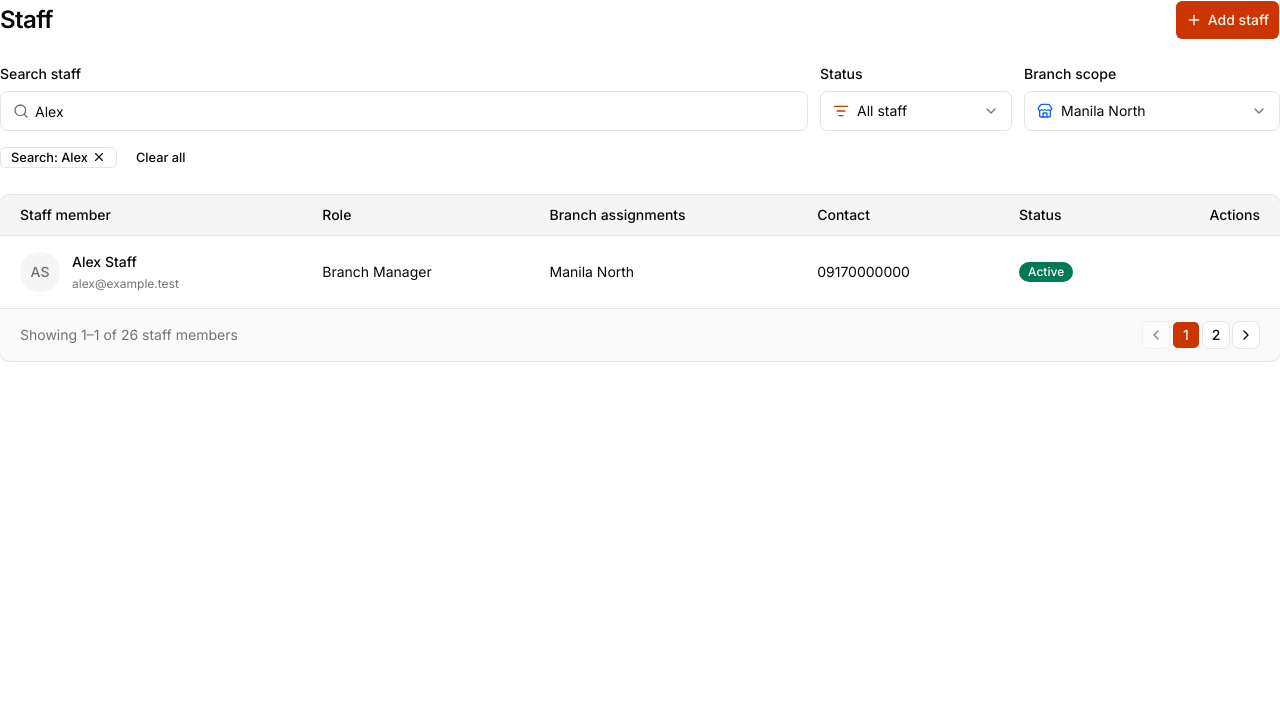
Test case: staff directory › opens staff creation in a centered modal
The width and height of the screenshot is (1280, 720).
Expected: the field labelled "Email" is not shown
Step 1. Click the button "Add staff" → (1227, 20), box [1175, 0, 1279, 40]
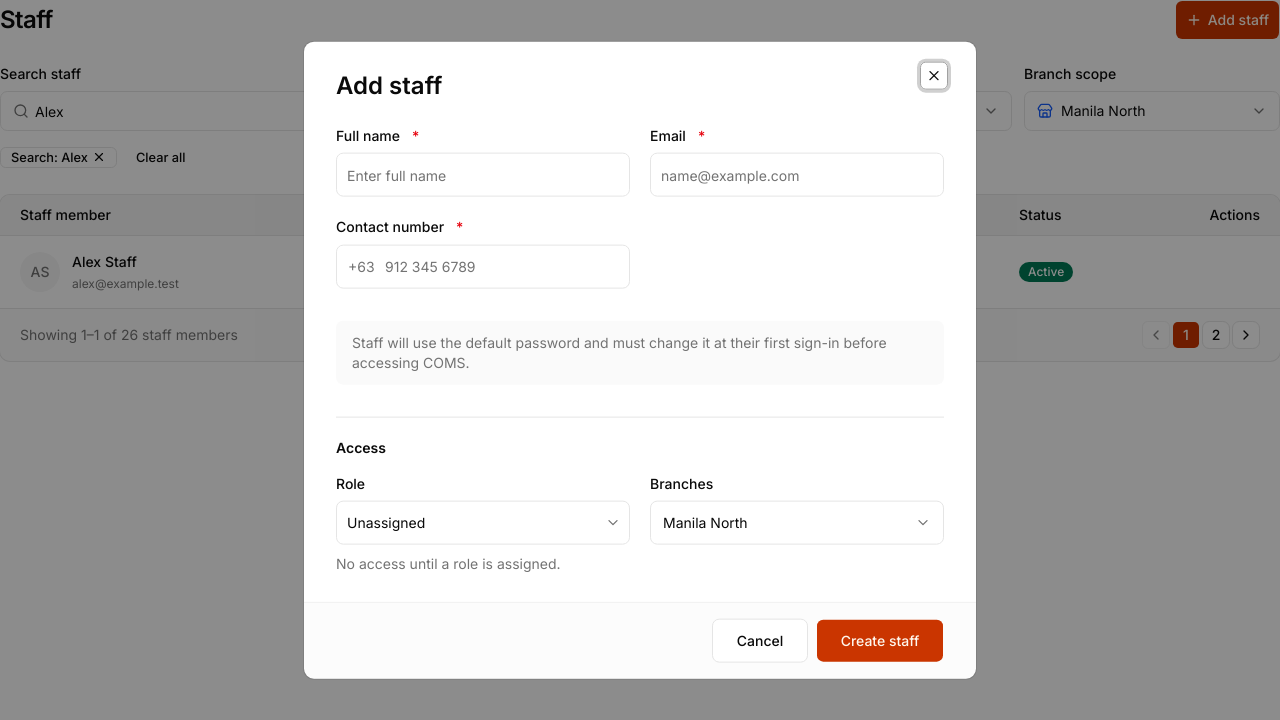
Expected: the dialog "Add staff" is shown, [304, 42, 976, 678]
Expected: the field labelled "Email" is shown, [650, 153, 944, 197]
Expected: the button "Create staff" is shown, [816, 618, 944, 662]
